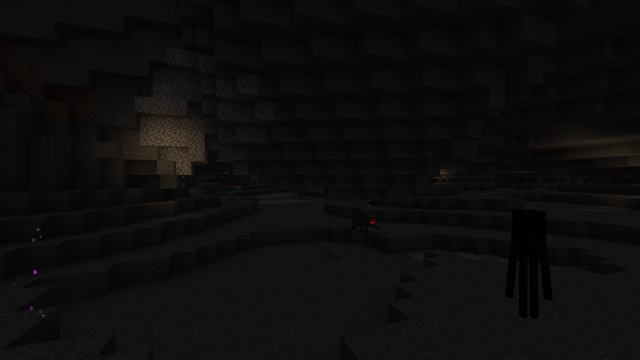araignees: (351, 215, 377, 231)
creepers: (228, 188, 234, 204)
endermens: (508, 205, 548, 324)
